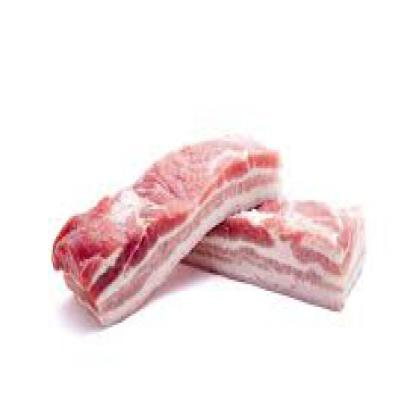pork: (62, 113, 369, 354)
